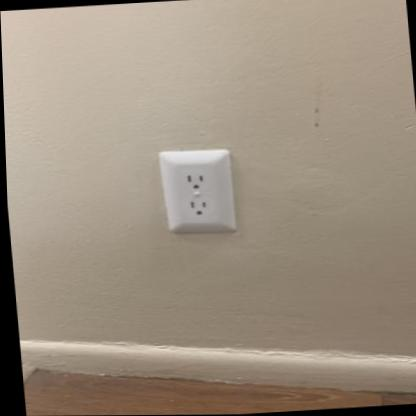OUTLET: (157, 146, 238, 237)
